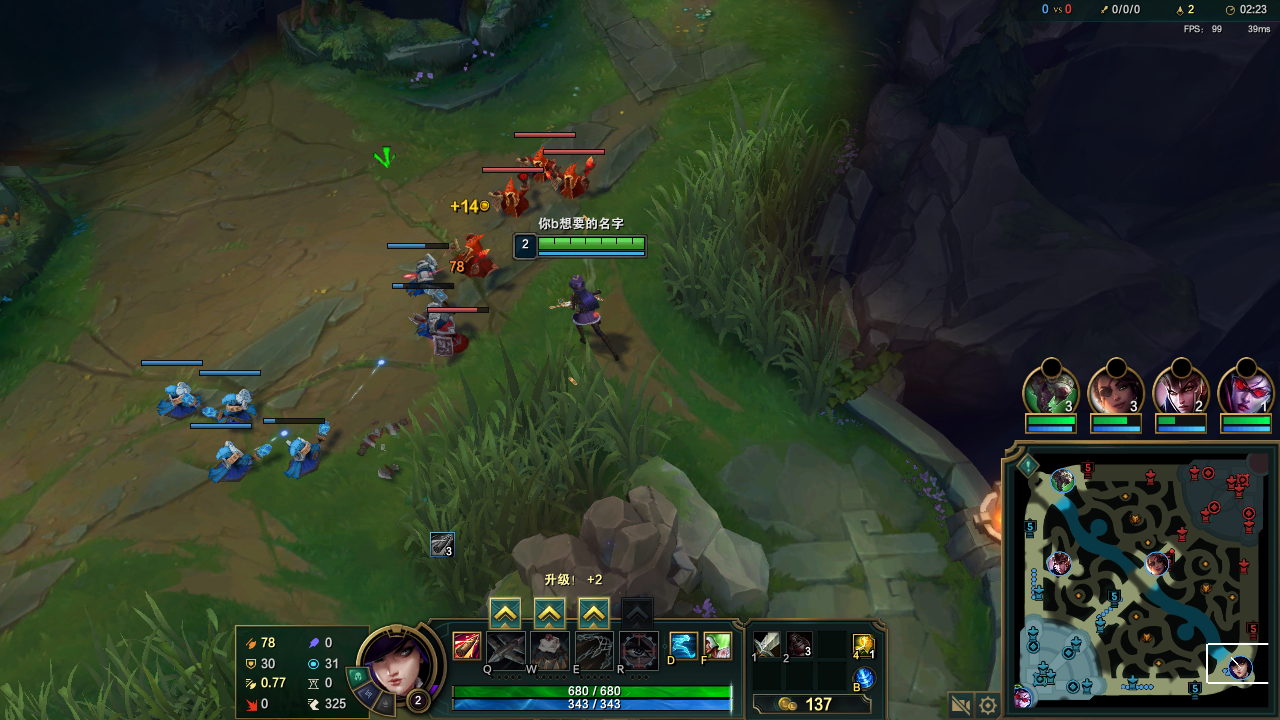DFXB: (552, 157, 602, 199), (453, 234, 499, 278), (493, 177, 528, 219), (434, 317, 471, 356), (519, 146, 553, 180)
Shenji: (491, 600, 520, 625), (583, 601, 607, 628), (539, 601, 561, 625)
WFXB: (214, 438, 272, 481), (282, 425, 328, 479), (203, 387, 261, 429), (155, 378, 198, 421), (400, 257, 438, 292), (411, 304, 440, 337)
Yita: (1188, 672, 1203, 696)
